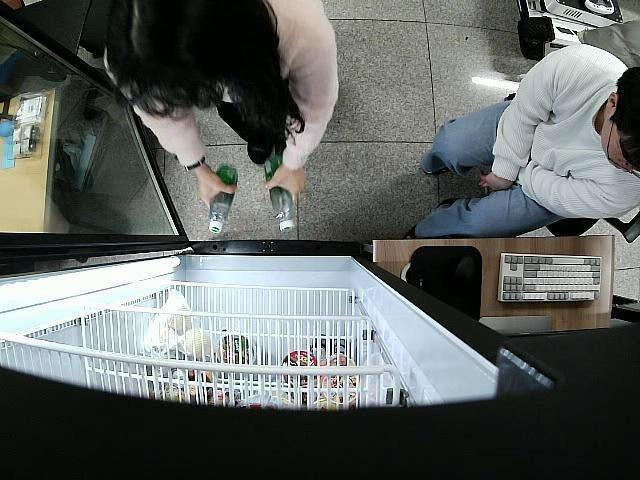18_trevi: (262, 156, 296, 234), (208, 167, 236, 234)
